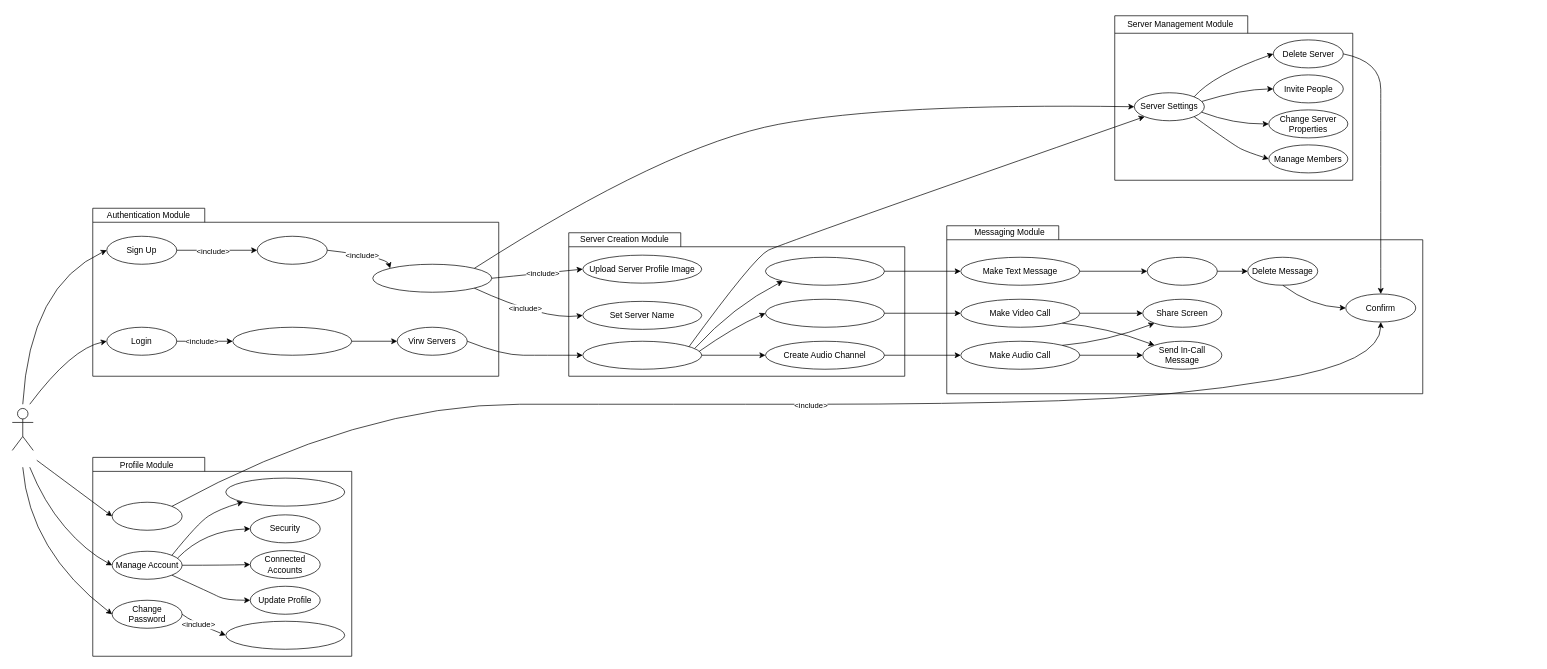
Some shapes in this 1547 by 669 pixel diagram are drawn without their labels. Each missing label, with the centre of its shape:
Access Default Server: point 292,341
Active Divice Management: point 285,491
Actor: point 22,429
Create Default Server: point 432,278
Create New Server: point 642,355
Create Text Channel: point 824,271
Create Video Channel: point 824,313
Delete Account: point 146,516
Edit Message: point 1182,271
Verify Current Password: point 285,635
Verify Email: point 292,250
